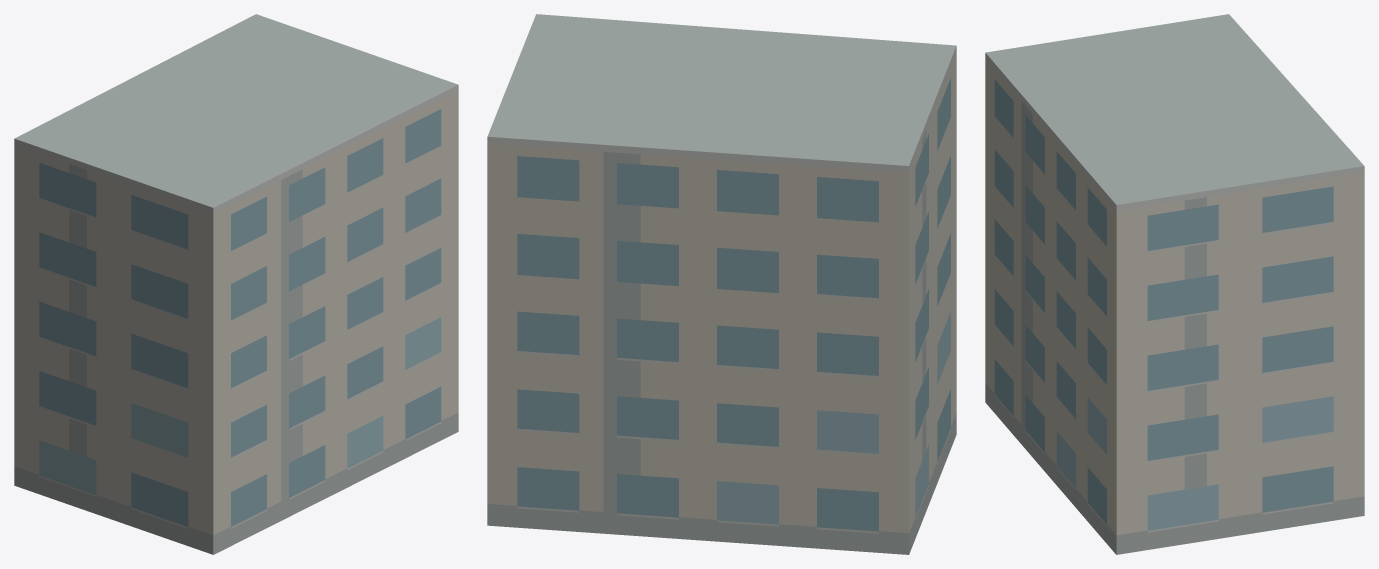
Rendered from survey-upis-32848137.glb.
The picture shows the model from 3 angles, left to right: view 1: azimuth 30°, elevation 25°; view 2: azimuth 150°, elevation 25°; view 3: azimuth 270°, elevation 25°; orthographic projection. The views are drawn at different scales.
Parts seen in each view (by area): view 1: survey-upis-32848137.tmp; view 2: survey-upis-32848137.tmp; view 3: survey-upis-32848137.tmp.
Boxes of the visible parts, left/top/right/bottom form: survey-upis-32848137.tmp: left=14, top=14, right=458, bottom=554; survey-upis-32848137.tmp: left=487, top=14, right=956, bottom=554; survey-upis-32848137.tmp: left=985, top=14, right=1364, bottom=554.
Bounding box in the file's own units: 16.06 × 13.7 × 13.47.
